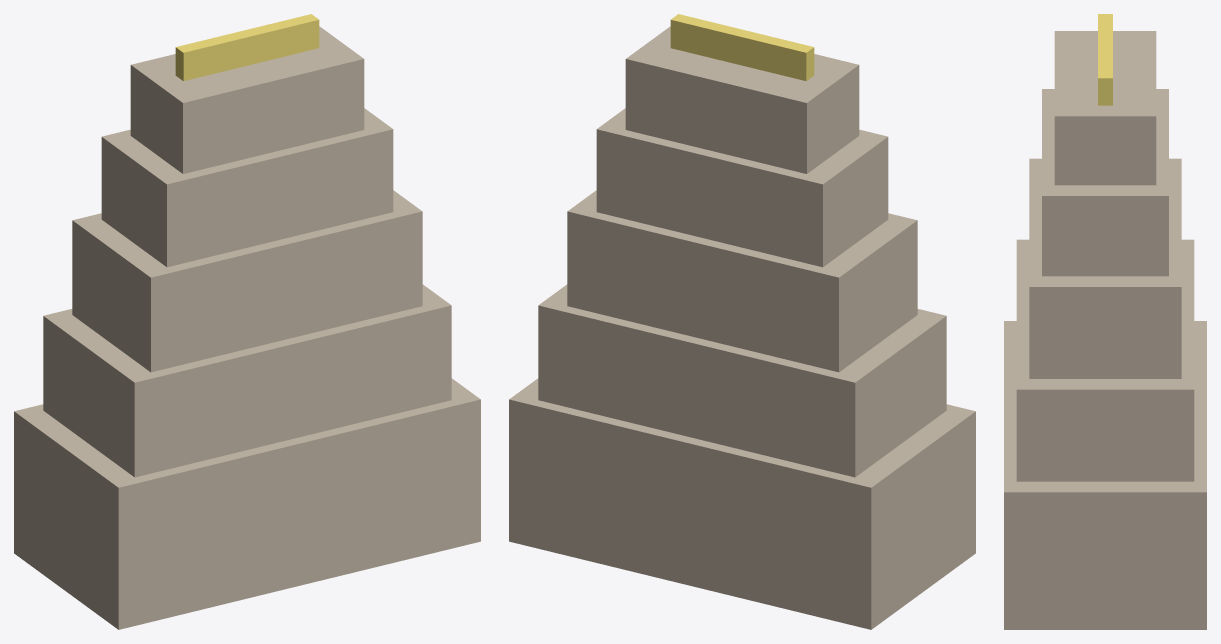
The model's file is heritage_temple_area.glb.
3 views of the same model, side by side, from view 1: azimuth 30°, elevation 25°; view 2: azimuth 150°, elevation 25°; view 3: azimuth 270°, elevation 25° (orthographic). The views are drawn at different scales.
Parts seen in each view (by area): view 1: BaseGate_Node, Tier_1_Node, Tier_2_Node, Tier_3_Node, Tier_4_Node, KalasaFinials_Node; view 2: BaseGate_Node, Tier_1_Node, Tier_2_Node, Tier_3_Node, Tier_4_Node, KalasaFinials_Node; view 3: BaseGate_Node, Tier_1_Node, Tier_2_Node, Tier_4_Node, Tier_3_Node, KalasaFinials_Node.
Boxes of the visible parts, <box> form: BaseGate_Node: <box>14,378,480,629</box>; Tier_1_Node: <box>43,284,451,477</box>; Tier_2_Node: <box>72,190,422,372</box>; Tier_3_Node: <box>101,108,393,267</box>; Tier_4_Node: <box>130,26,364,173</box>; KalasaFinials_Node: <box>175,14,319,81</box>; BaseGate_Node: <box>509,378,975,629</box>; Tier_1_Node: <box>538,284,946,477</box>; Tier_2_Node: <box>567,190,917,372</box>; Tier_3_Node: <box>596,108,888,267</box>; Tier_4_Node: <box>625,26,859,173</box>; KalasaFinials_Node: <box>670,14,814,81</box>; BaseGate_Node: <box>1004,321,1206,629</box>; Tier_1_Node: <box>1016,239,1194,481</box>; Tier_2_Node: <box>1029,158,1181,378</box>; Tier_4_Node: <box>1054,31,1156,185</box>; Tier_3_Node: <box>1042,89,1168,276</box>; KalasaFinials_Node: <box>1098,14,1112,105</box>.
Bounding box in the file's own units: 16 × 21.7 × 8.
